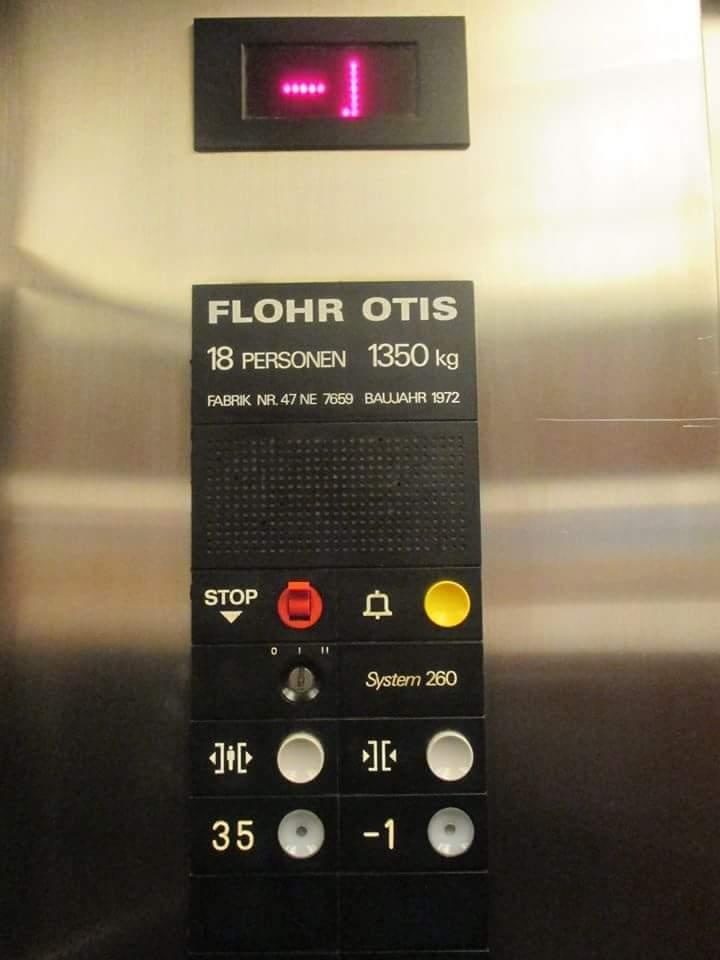-1: (337, 793, 494, 881)
35: (185, 792, 344, 880)
alarm: (334, 560, 490, 651)
bt_keyhole: (185, 641, 346, 717)
close: (337, 712, 493, 799)
led: (241, 33, 426, 123)
open: (188, 712, 342, 798)
stop: (186, 562, 341, 648)
text: (336, 638, 488, 717)
